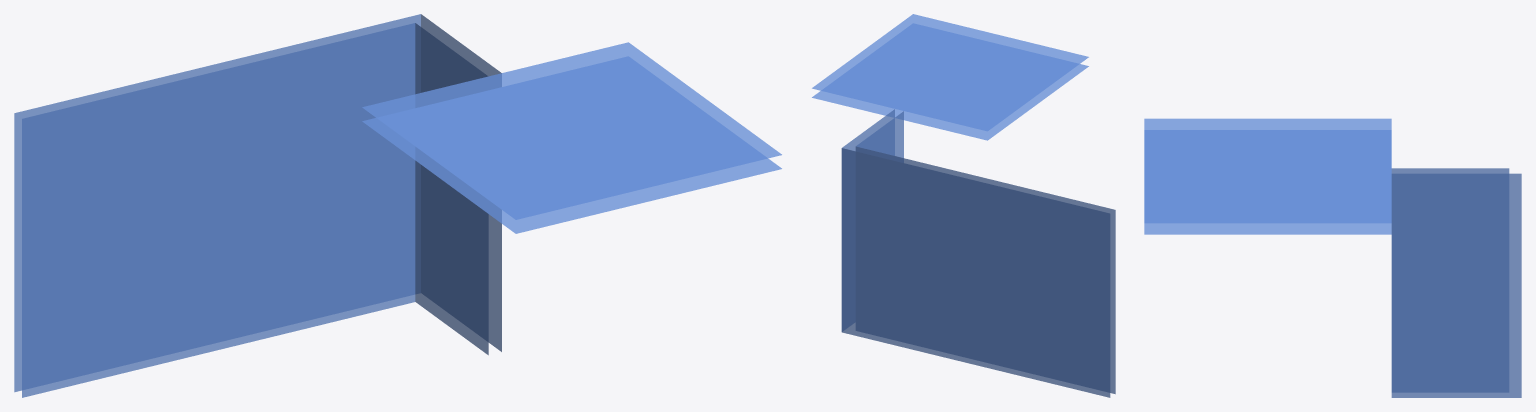
File: bloque_ventana.dae
The picture shows the model from 3 angles, left to right: view 1: azimuth 30°, elevation 25°; view 2: azimuth 150°, elevation 25°; view 3: azimuth 270°, elevation 25°; orthographic projection. The views are drawn at different scales.
Parts seen in each view (by area): view 1: ventana (×2), ventana_esquina (×2), ventana_techo (×2); view 2: ventana (×2), ventana_techo (×2), ventana_esquina (×2); view 3: ventana_esquina (×2), ventana_techo (×2).
Part boxes in pixels (x1=…): ventana (×2): x1=14, y1=48, x2=288, y2=397; ventana_esquina (×2): x1=281, y1=14, x2=501, y2=355; ventana_techo (×2): x1=362, y1=42, x2=781, y2=233; ventana (×2): x1=934, y1=167, x2=1115, y2=397; ventana_techo (×2): x1=812, y1=14, x2=1088, y2=140; ventana_esquina (×2): x1=841, y1=109, x2=939, y2=354; ventana_esquina (×2): x1=1391, y1=168, x2=1521, y2=397; ventana_techo (×2): x1=1144, y1=118, x2=1391, y2=234.
Bounding box in the file's own units: 78.74 × 60.04 × 39.37.
